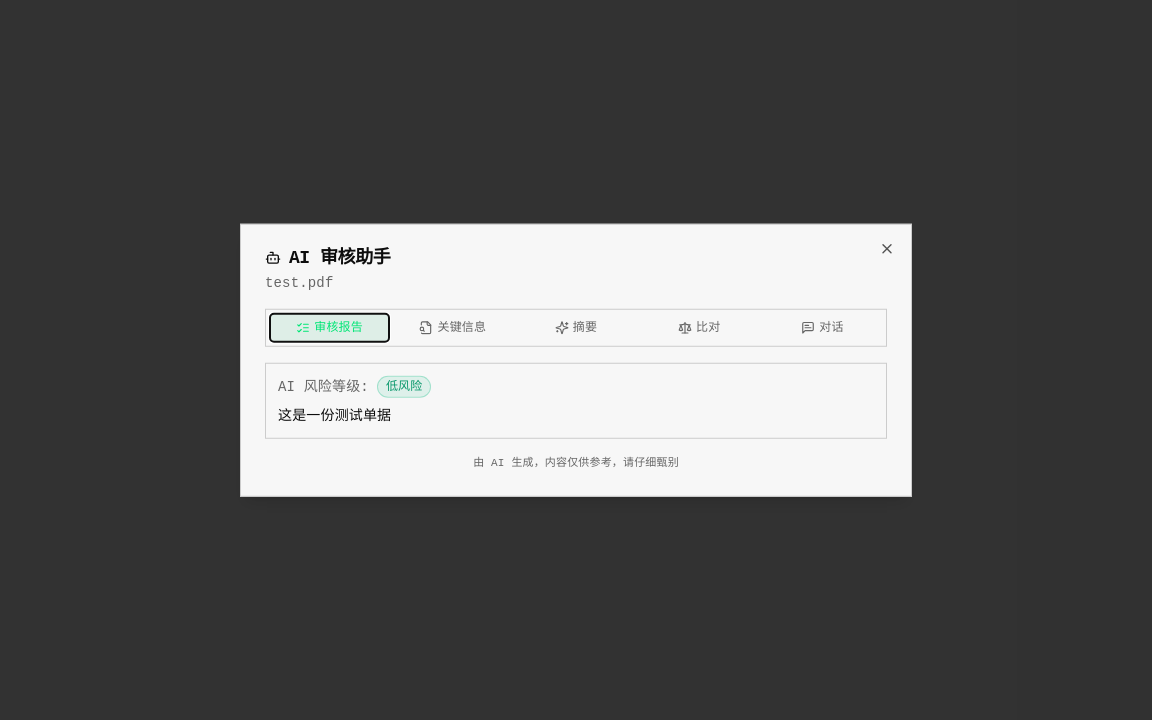
Scenario: AiAssistantDialog › 关键信息标签页触发提取并展示字段
The image size is (1152, 720).
What coordinates should you click on to do the following:
click the button "关键信息"
I would click on:
 (453, 328)
Its box is [393,314,512,342].
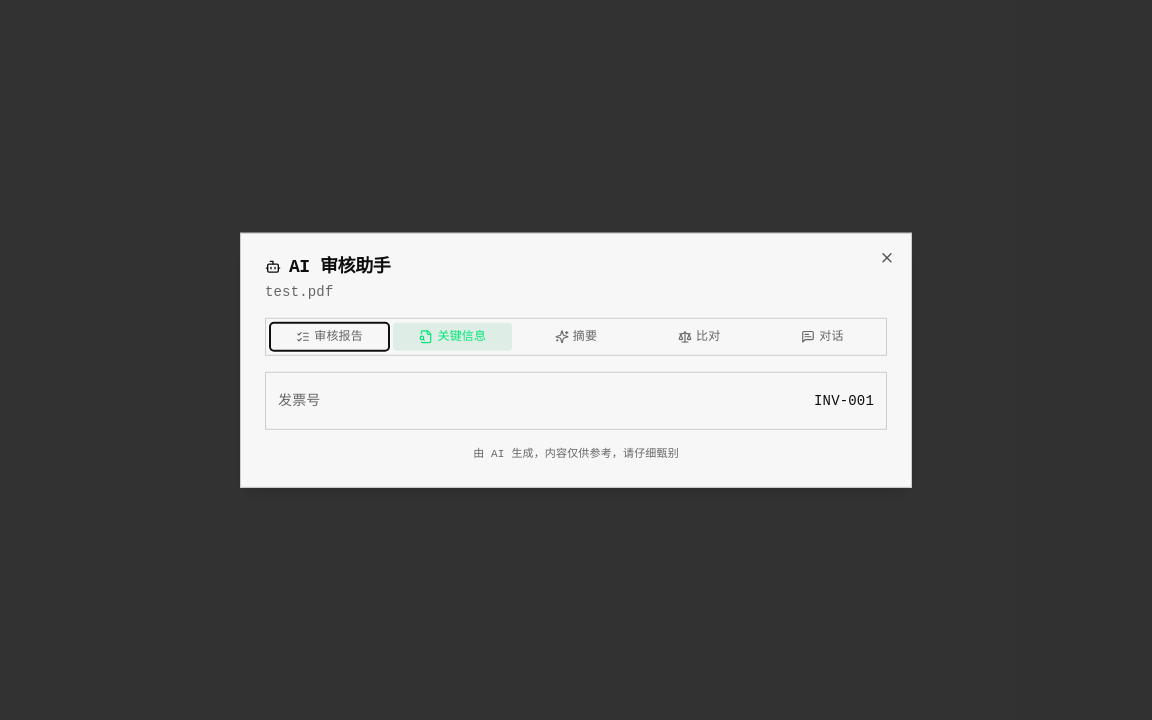
Result: the text "INV-001" is shown at [814,391,874,411]
